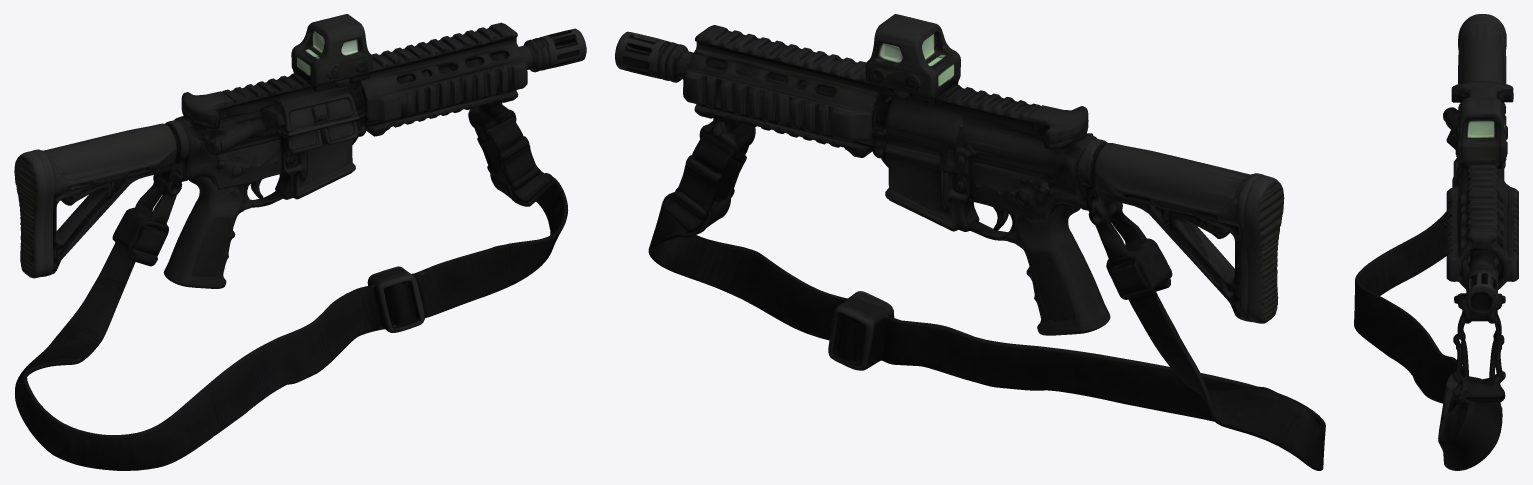
The model's file is E13-compact-carbine.glb.
3 renders of one model, left to right at view 1: azimuth 30°, elevation 25°; view 2: azimuth 150°, elevation 25°; view 3: azimuth 270°, elevation 25°, orthographic. The views are drawn at different scales.
Parts seen in each view (by area): view 1: material; view 2: material; view 3: material.
Boxes of the visible parts, x1,y1,x2,y2 form: material: (14, 14, 586, 470); material: (615, 14, 1325, 470); material: (1354, 14, 1518, 470).
Size of the model in its own units: 1.09 by 0.6148 by 0.275.
Materials: 1 (1 with a texture image).
